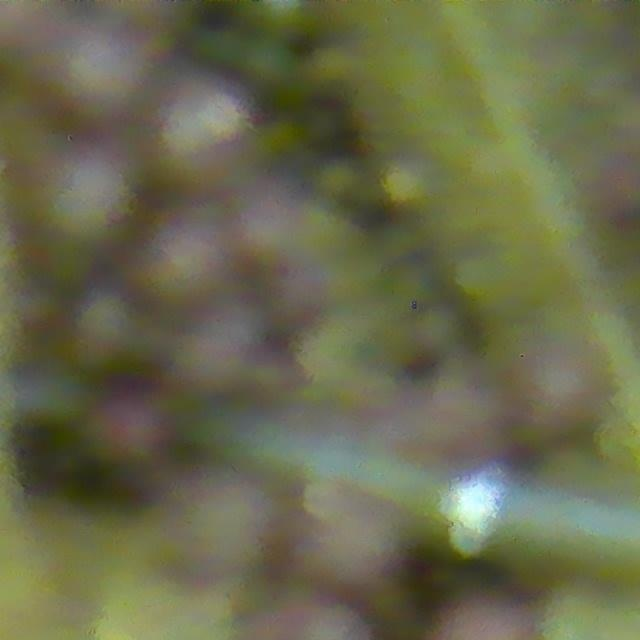SeaGrape: (287, 489, 395, 595), (29, 25, 138, 130), (140, 82, 249, 187), (27, 149, 136, 254), (128, 227, 227, 313), (513, 353, 605, 439), (251, 0, 315, 39)
